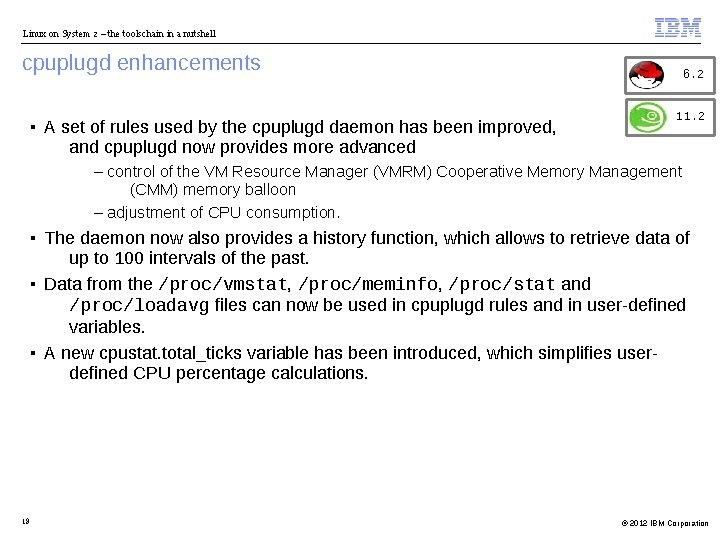paragraph: (23, 100, 713, 401)
subtitle: (17, 48, 269, 83)
title: (17, 21, 234, 41)
